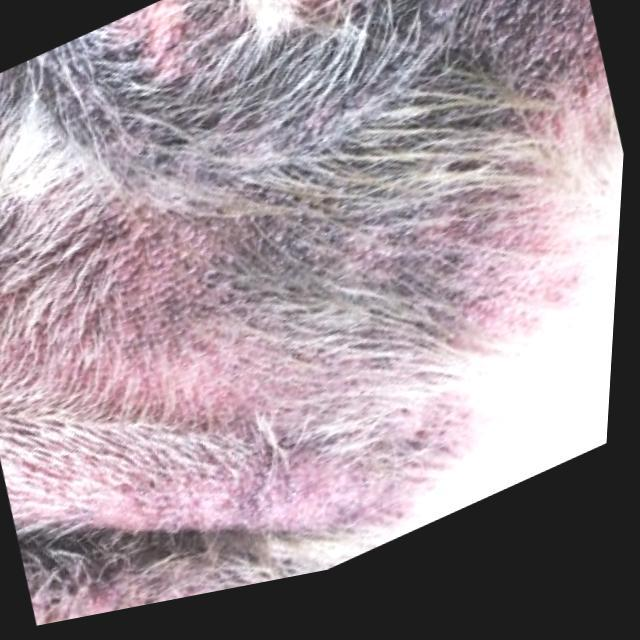nhiem nam cho: (0, 0, 622, 618)
